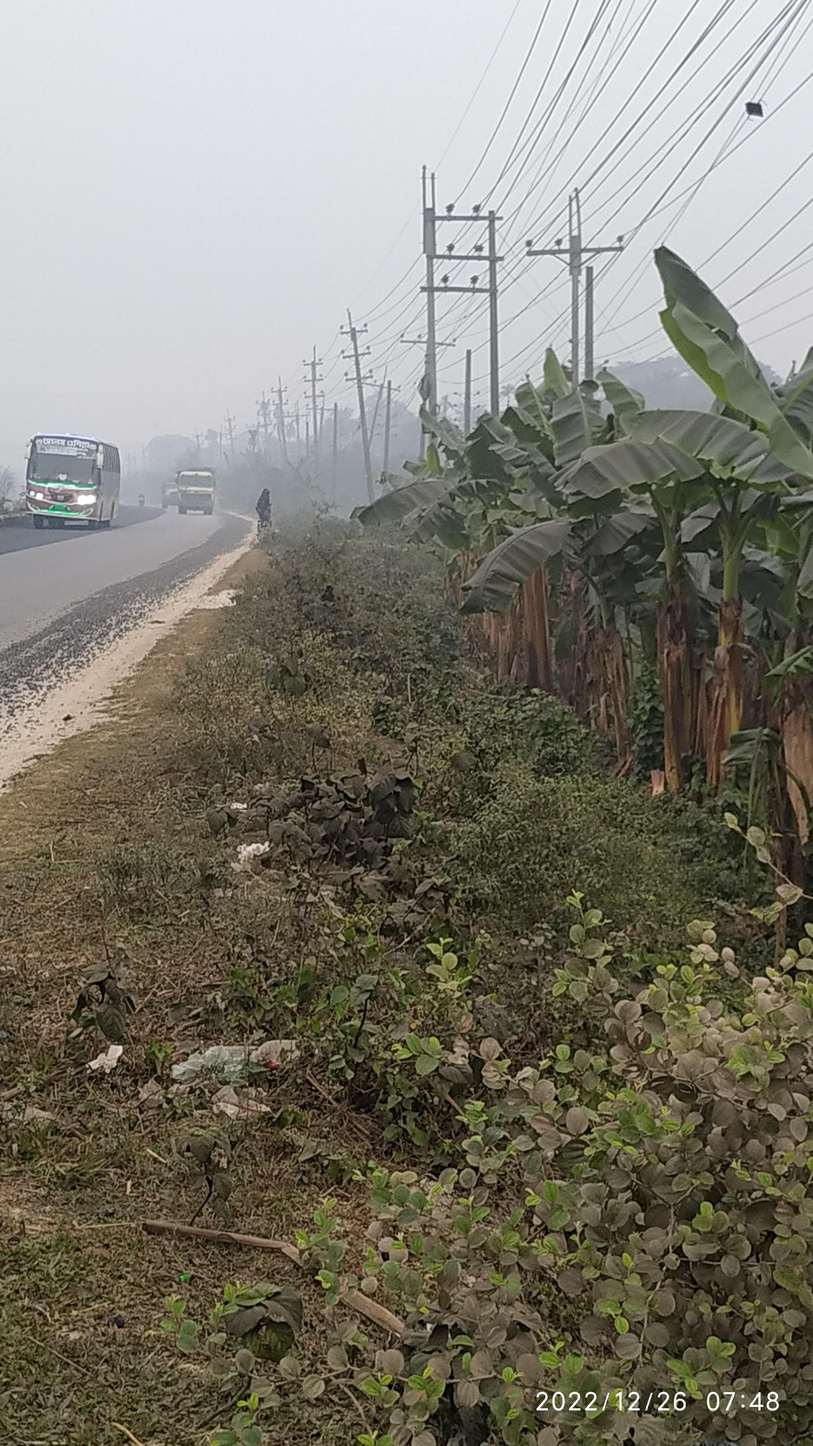Bus: (15, 420, 141, 549)
Truck: (161, 462, 232, 544)
